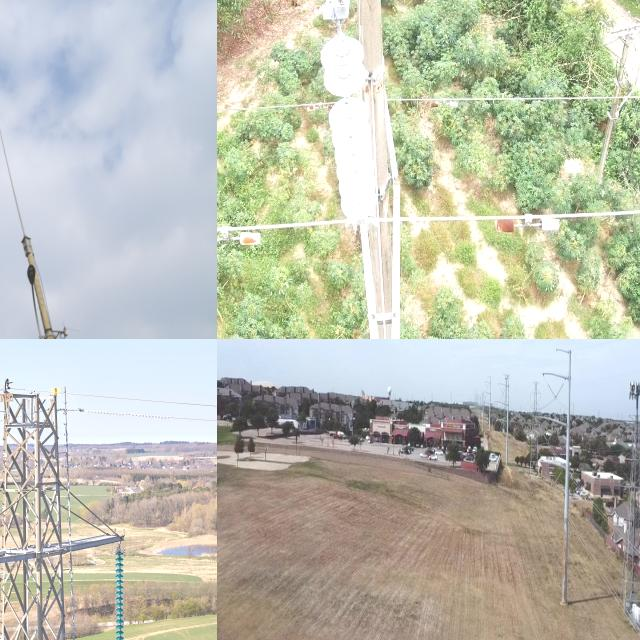杆塔: (0, 363, 132, 640), (618, 372, 640, 620), (529, 379, 541, 476)
正常电缆: (217, 195, 640, 239), (413, 82, 640, 119), (217, 91, 312, 122)
正常绝缘子: (320, 35, 379, 227), (113, 539, 126, 640)
绝缘子破损: (340, 96, 352, 107)
